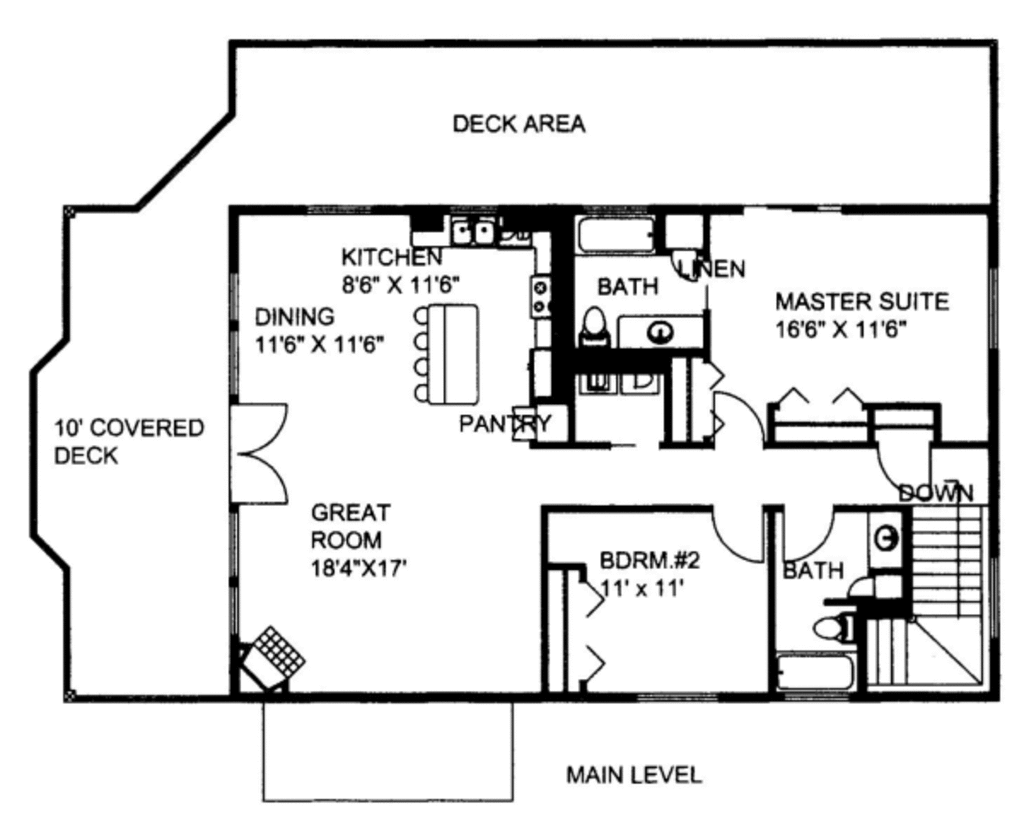door: (222, 394, 294, 508), (705, 501, 765, 571), (782, 501, 836, 565)
kitchen_bar: (404, 299, 504, 422)
large_sink: (802, 606, 853, 649), (576, 301, 618, 348)
small_sink: (616, 315, 708, 347), (865, 513, 908, 580)
stairs: (853, 501, 1005, 694)
tub: (775, 651, 862, 693), (570, 213, 658, 253)
twin_sink: (431, 210, 500, 252)
window: (224, 275, 242, 405), (230, 512, 250, 629), (629, 687, 724, 708), (983, 270, 1006, 354), (784, 694, 858, 710)
